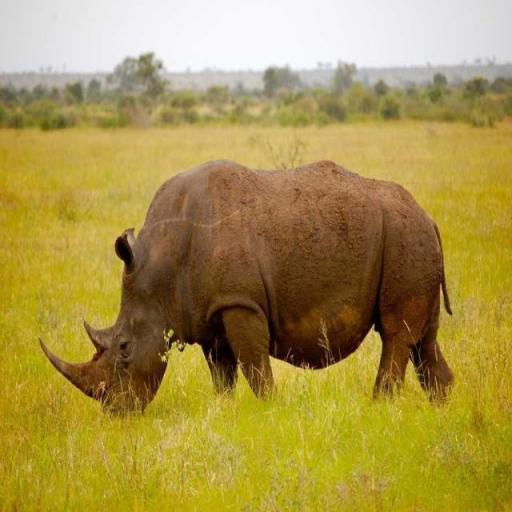Rhino: (38, 158, 455, 420)
